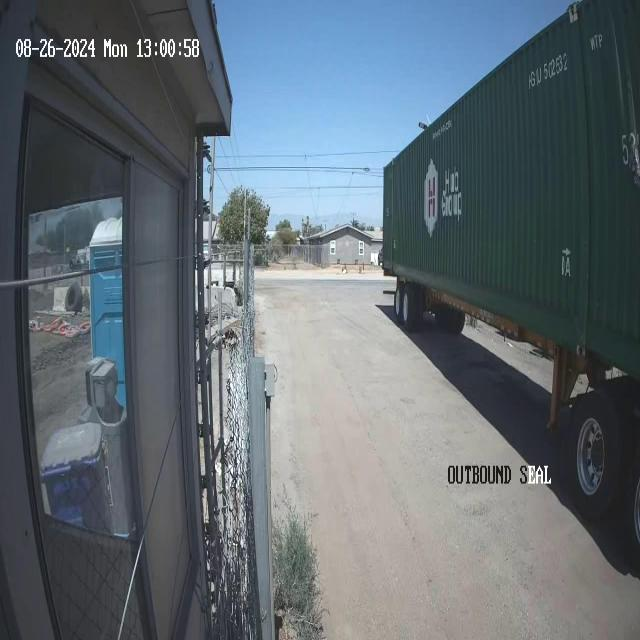CONTAINER: (381, 1, 639, 358)
